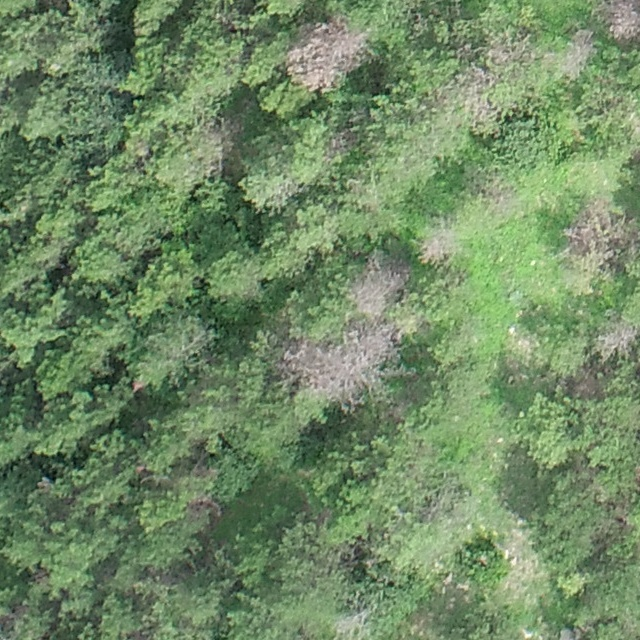unhealthy: (281, 323, 395, 408), (286, 20, 368, 92), (561, 192, 634, 268), (350, 253, 410, 315), (442, 66, 498, 129), (562, 29, 597, 75), (603, 0, 640, 42), (596, 320, 640, 355), (418, 225, 458, 263), (482, 178, 518, 216), (484, 36, 528, 65), (331, 610, 369, 638), (570, 365, 601, 399)
